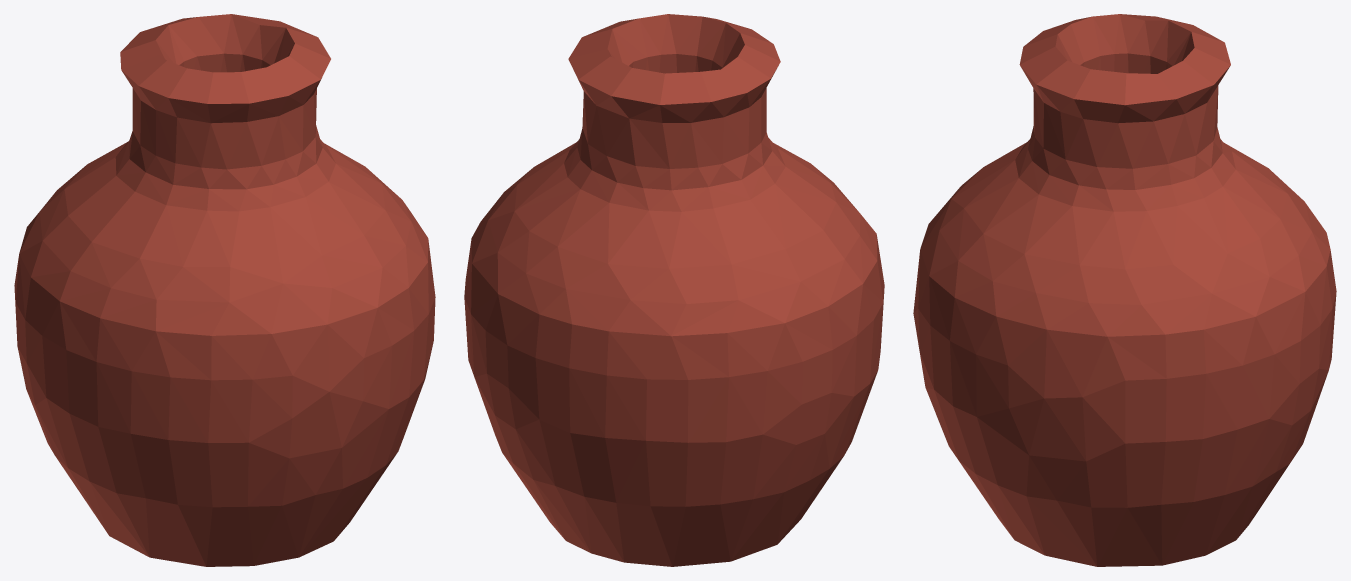
Rendered from Pottery 5_1.fbx.
3 renders of one model, left to right at view 1: azimuth 30°, elevation 25°; view 2: azimuth 150°, elevation 25°; view 3: azimuth 270°, elevation 25°, orthographic.
Visible parts, largest first — view 1: Pottery 5_1; view 2: Pottery 5_1; view 3: Pottery 5_1.
Boxes of the visible parts, <box> form: Pottery 5_1: <box>14,14,435,566</box>; Pottery 5_1: <box>464,14,884,566</box>; Pottery 5_1: <box>913,14,1336,566</box>.
Size of the model in its own units: 53.04 by 65.33 by 53.14.
